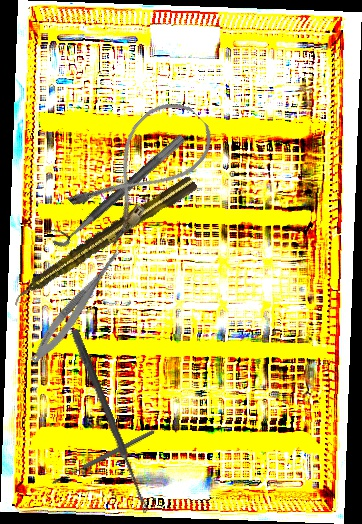Cannula: (63, 88, 224, 248)
Fixation Ring: (44, 123, 187, 252)
Handpiece: (6, 173, 200, 308)
Micro Scissor: (27, 238, 129, 368)
Surgical Spoon: (69, 328, 152, 515), (50, 428, 157, 486)
